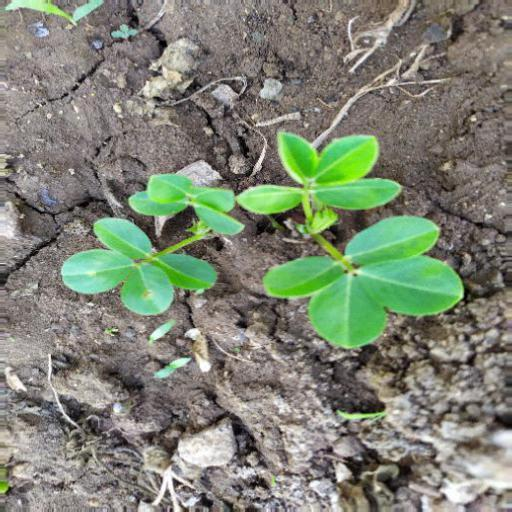weed: (63, 133, 468, 360)
